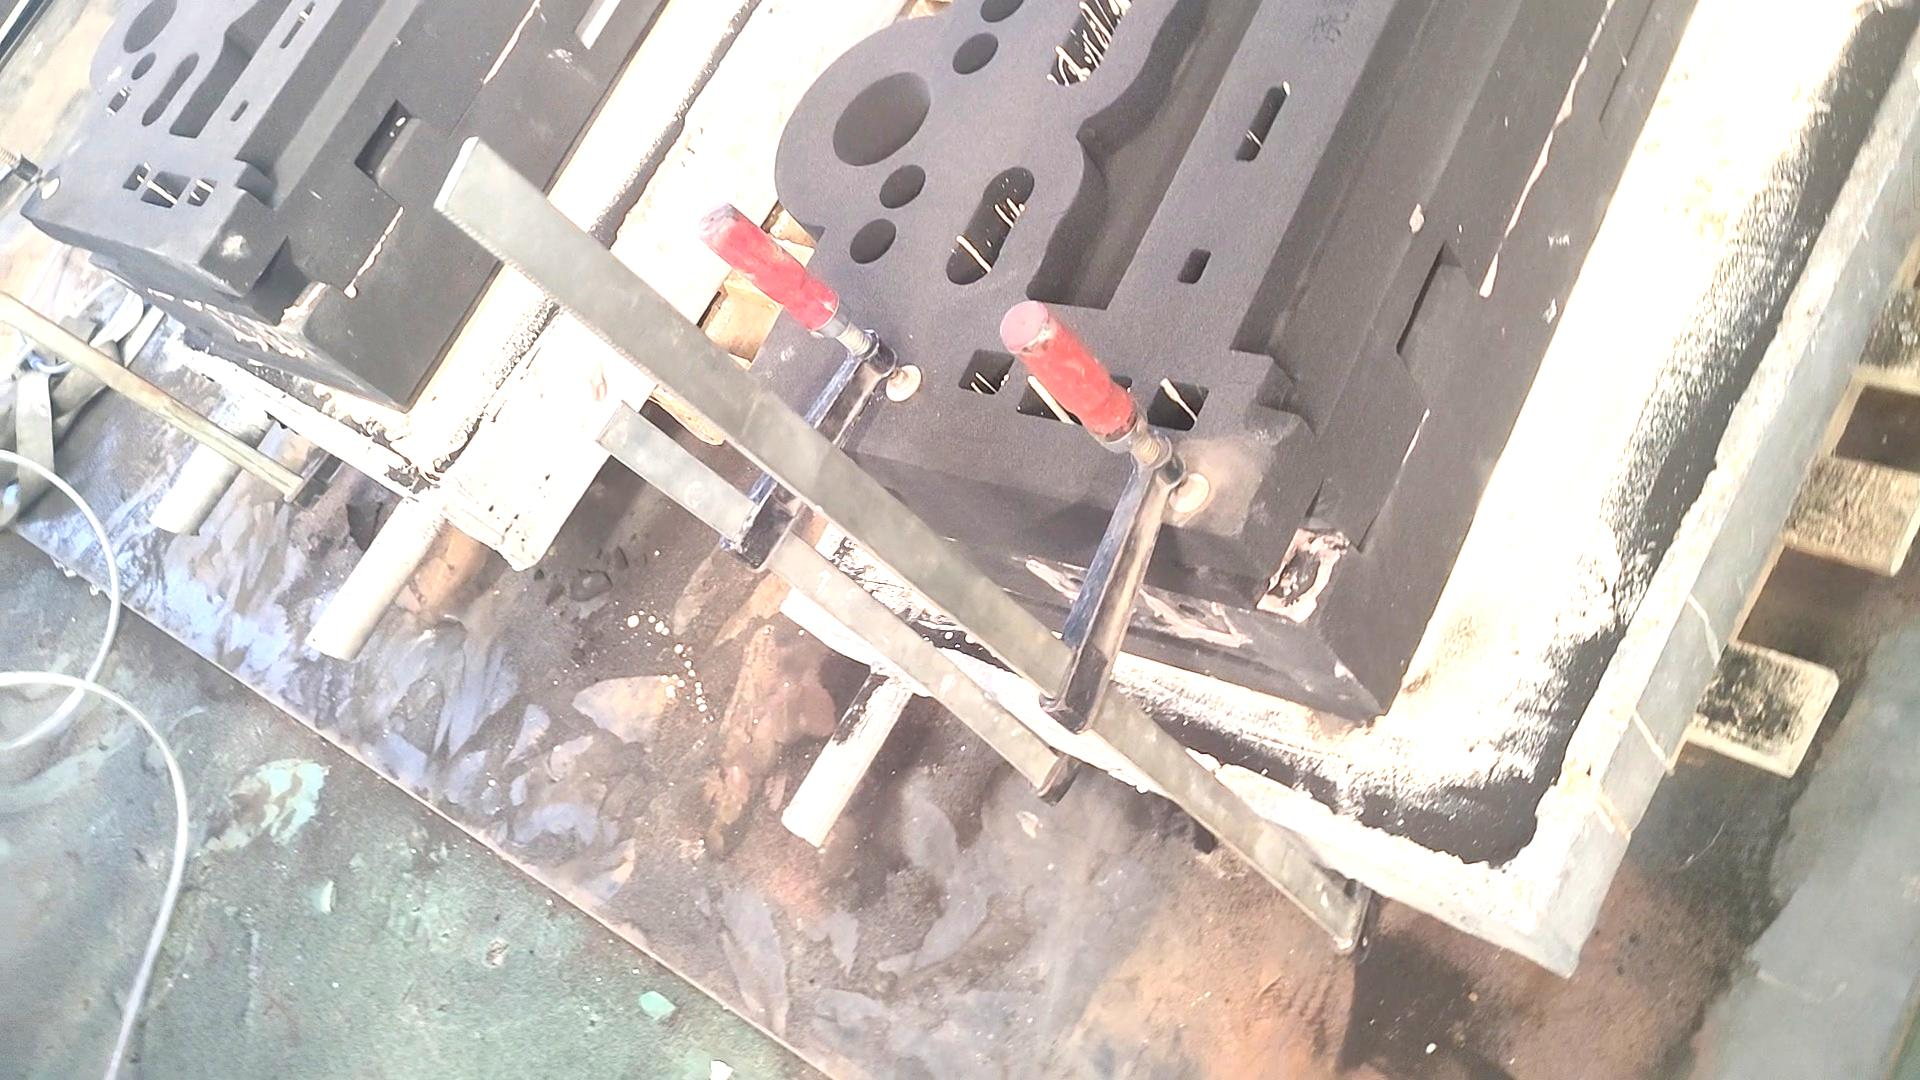pouring hole: (833, 70, 931, 167), (123, 1, 181, 55)
